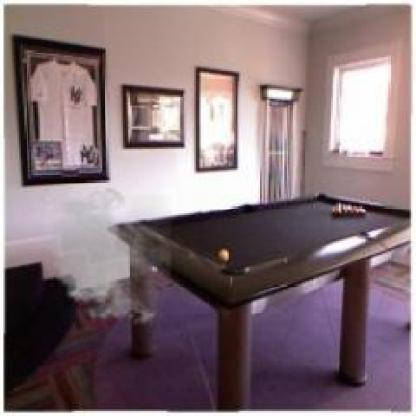Smoke: (37, 186, 171, 330)
